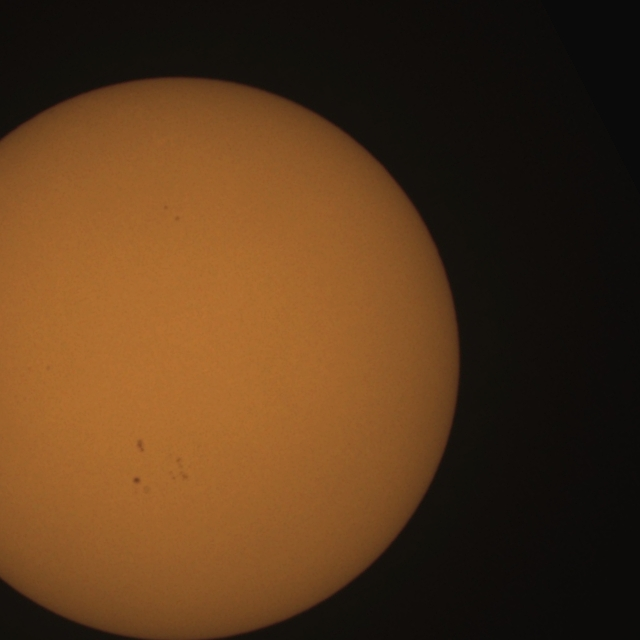sunspot: (169, 457, 190, 484), (163, 204, 182, 222), (131, 476, 150, 494), (135, 438, 146, 454), (132, 476, 142, 486), (174, 214, 182, 223), (163, 204, 169, 212)
